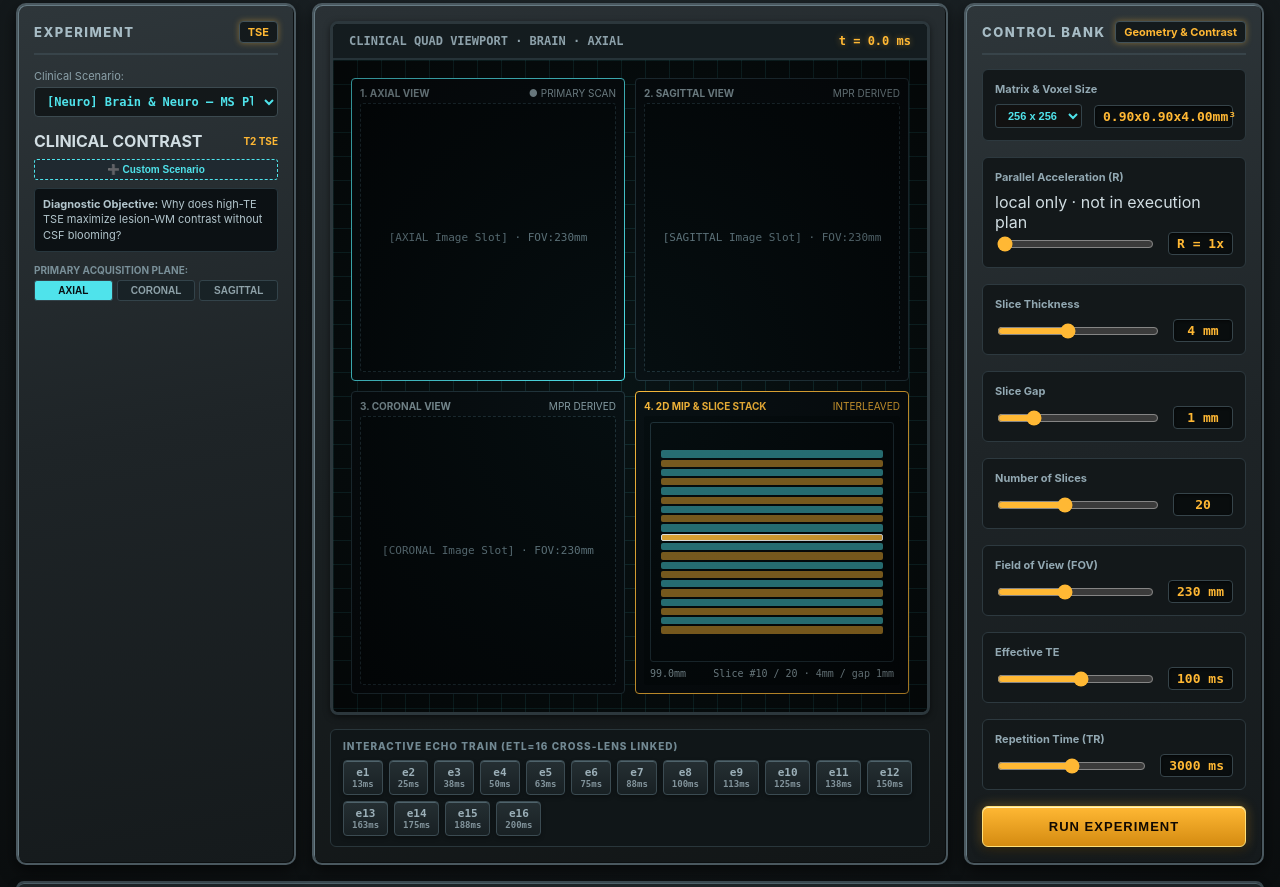
Scenario: Wave A: fail-closed RUN from clinical recipe › sets STATUS ERROR and does not mint a fake ResultGraph on 422
Click the button with test id "run-experiment-btn" at (1114, 826), box [982,806,1246,847]
(page scrolled)
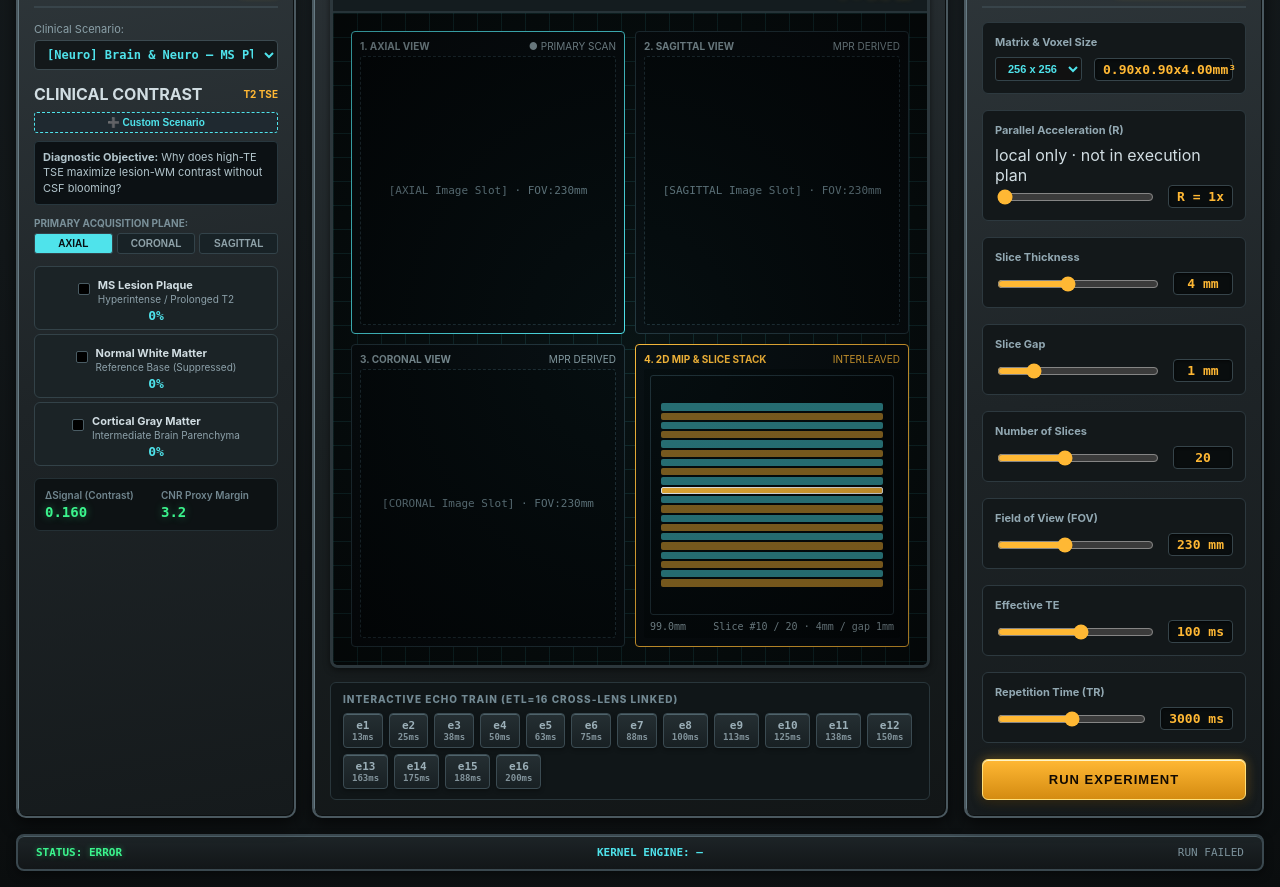
Expected: the element with test id "status-rail" does not show "STATUS: RESULT", [16,834,1264,871]
Now the element with test id "status-rail" shows "STATUS: ERROR", box [16,834,1264,871]
Now the text "RUN FAILED" is shown, box [1178,846,1244,859]
